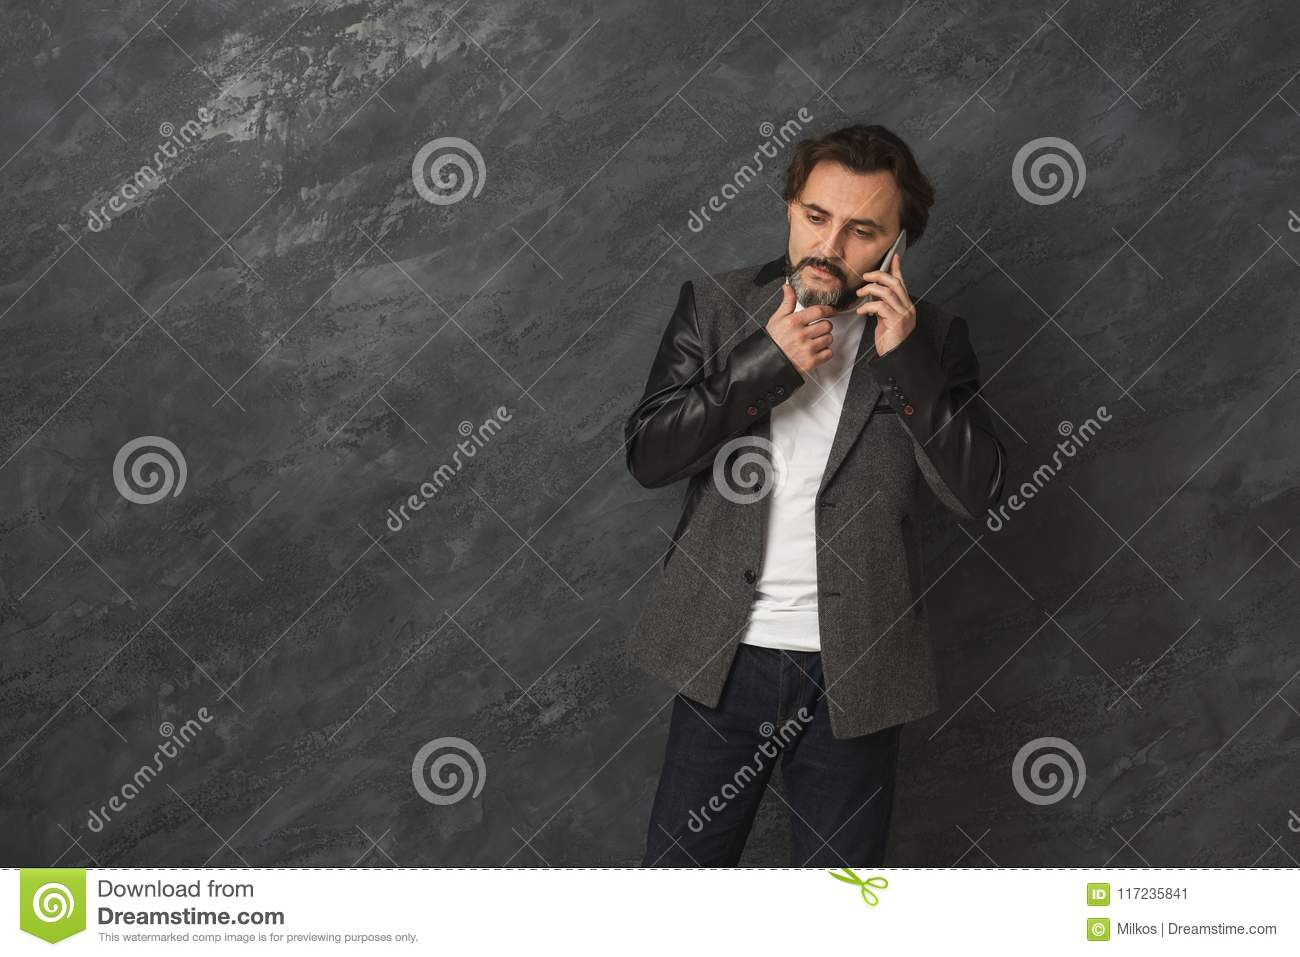phone: (874, 229, 909, 304)
talk: (786, 195, 917, 347)
